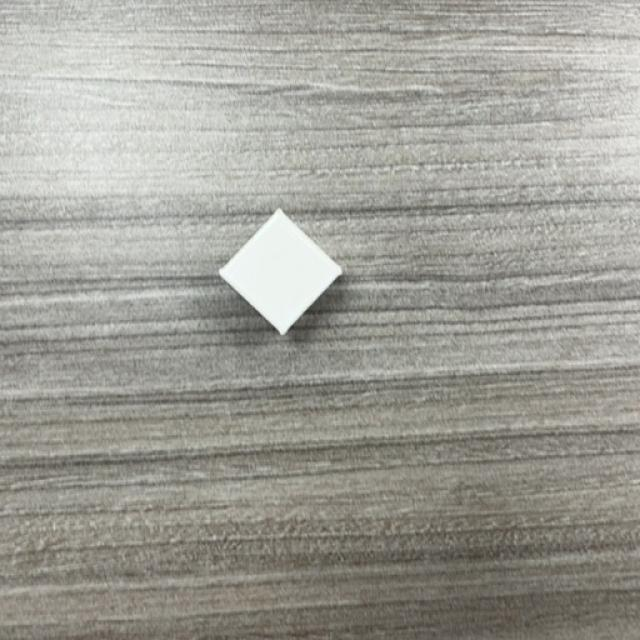Blanco: (218, 211, 344, 336)
